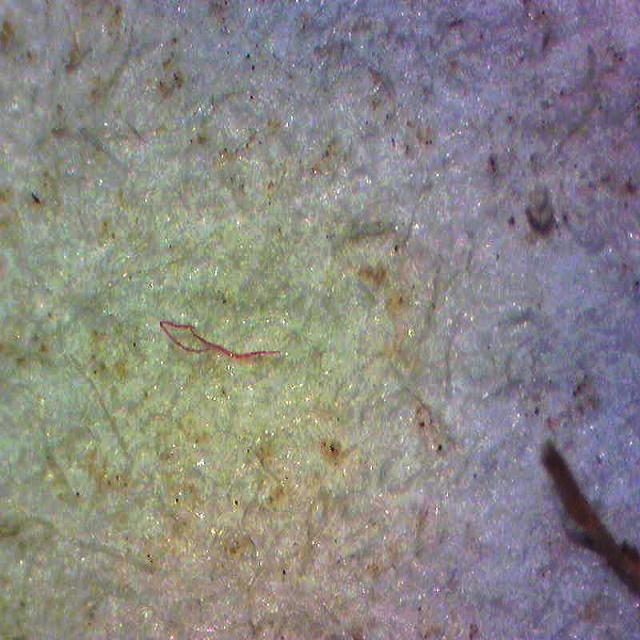microplastic: (161, 321, 281, 358)
